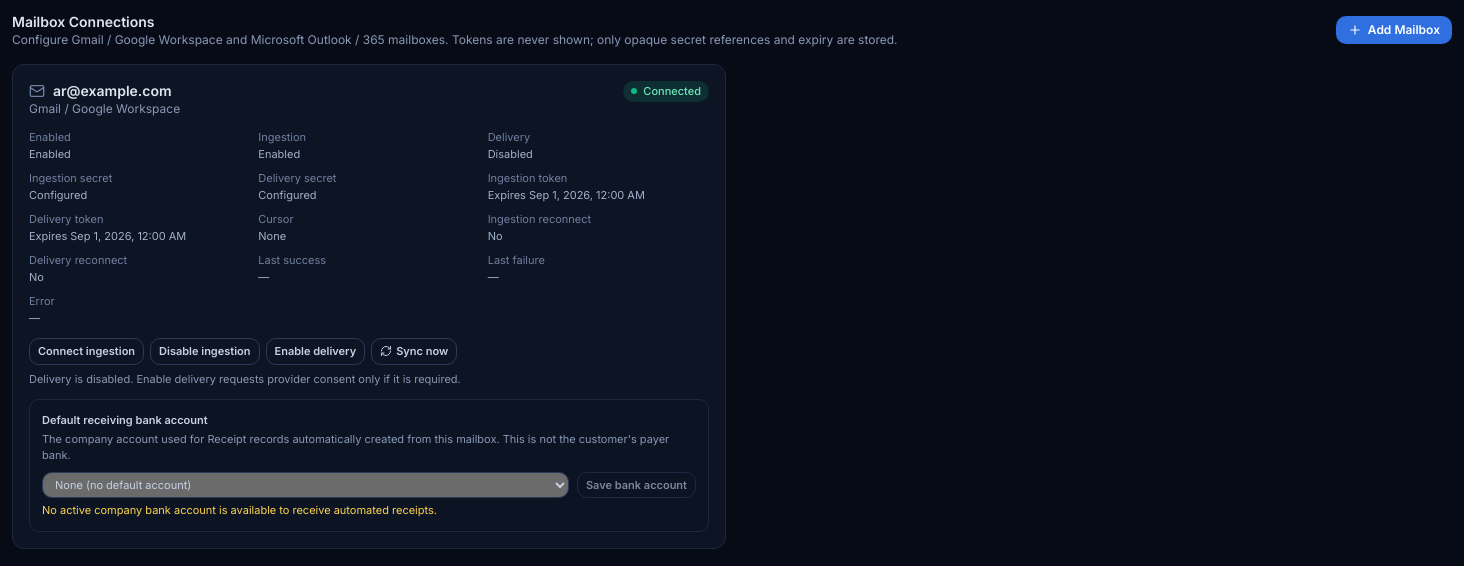
Test: Mailboxes — governed Delivery onboarding › fails closed when the delivery result drifts from the strict union
The image size is (1464, 566).
Step 1. Click the button "Enable delivery" → (315, 351), box x1=266 y1=338 x2=365 y2=364
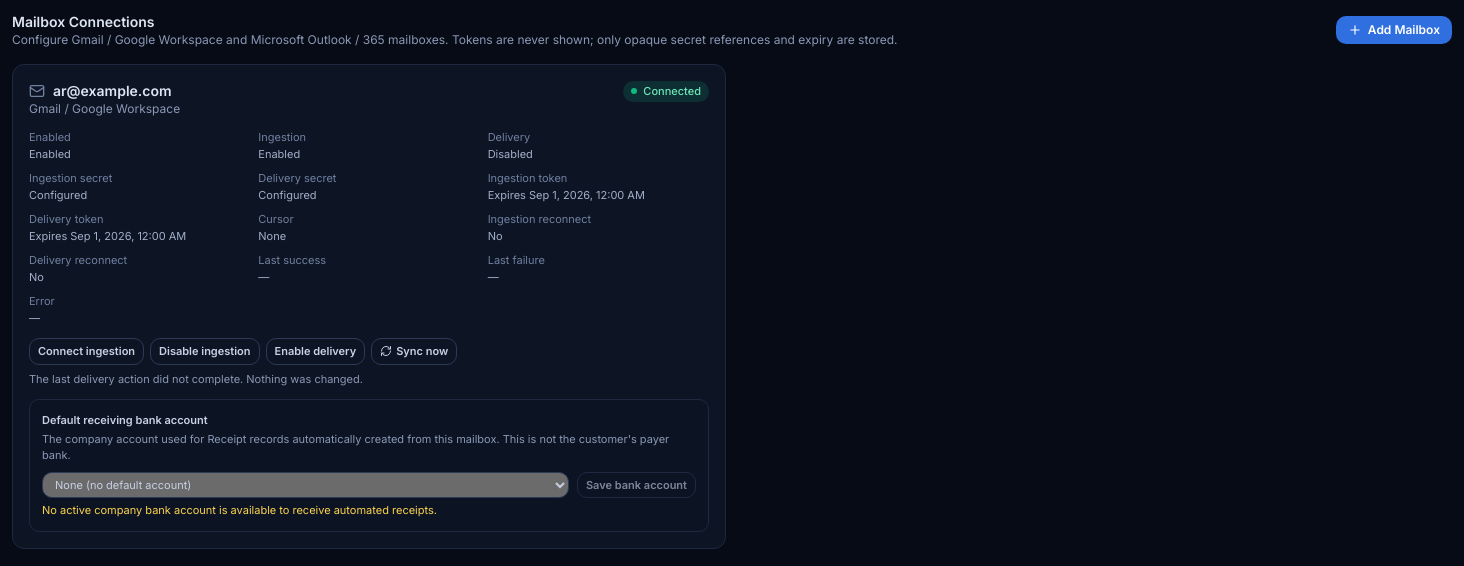
expect the text "The last delivery action did not complete. Nothing was changed." is shown: met, box x1=29 y1=372 x2=363 y2=386
